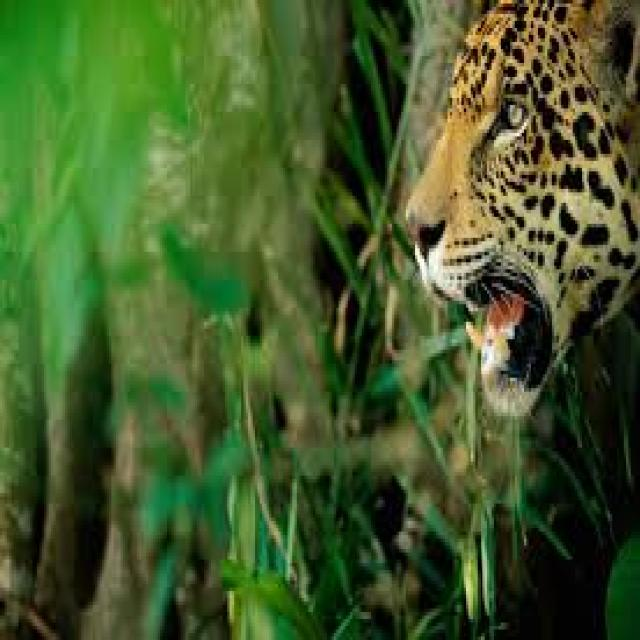Jaguar: (401, 0, 640, 437)
